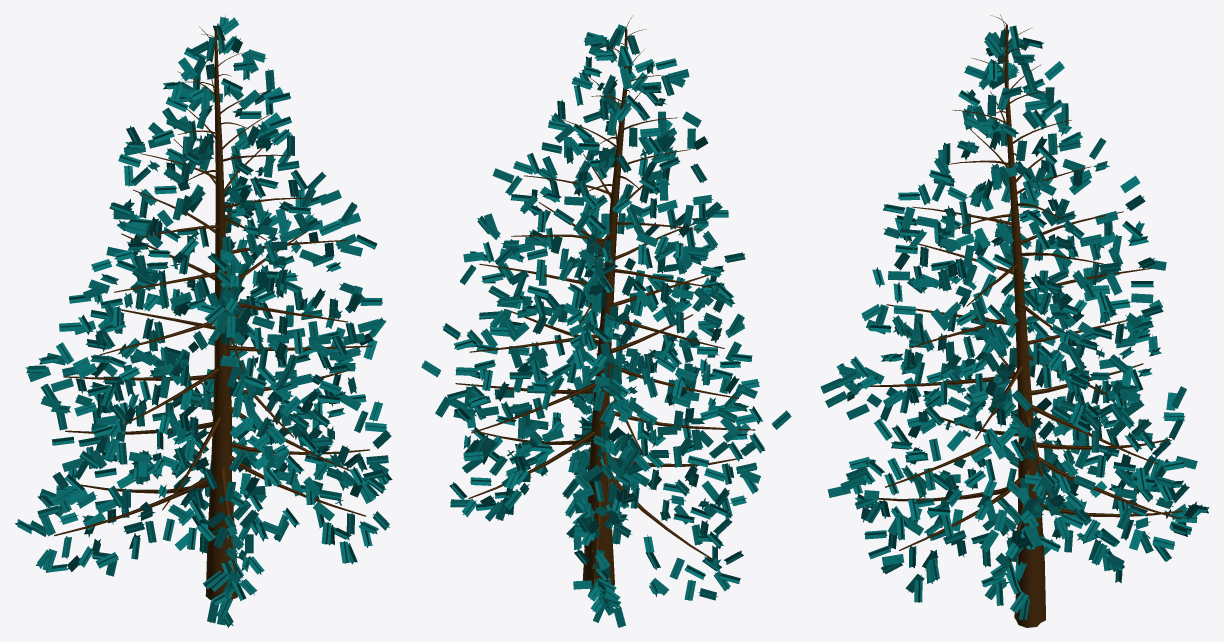
The model's file is tree2.FBX.
The picture shows the model from 3 angles, left to right: view 1: azimuth 30°, elevation 25°; view 2: azimuth 150°, elevation 25°; view 3: azimuth 270°, elevation 25°; orthographic projection. The views are drawn at different scales.
Parts seen in each view (by area): view 1: Foliage002; view 2: Foliage002; view 3: Foliage002.
Boxes of the visible parts, x1=… form: Foliage002: x1=15, y1=16, x2=392, y2=627; Foliage002: x1=421, y1=15, x2=791, y2=627; Foliage002: x1=820, y1=14, x2=1209, y2=627.
Size of the model in its own units: 278 by 448 by 265.
